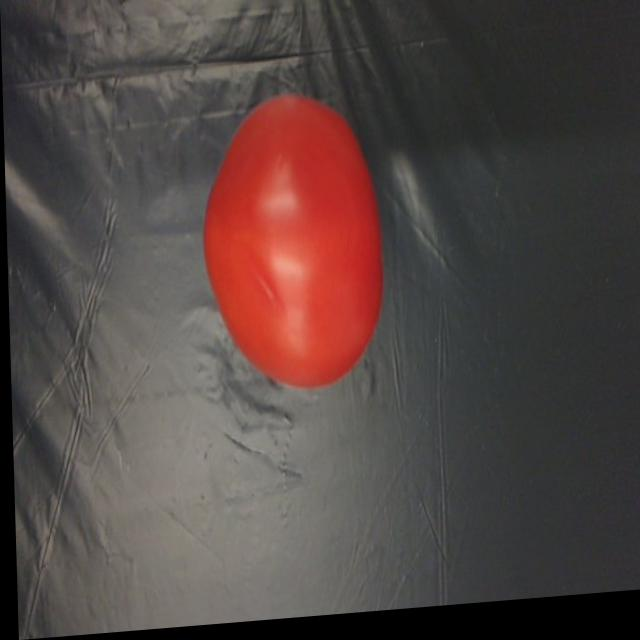kirmizi: (185, 75, 396, 413)
